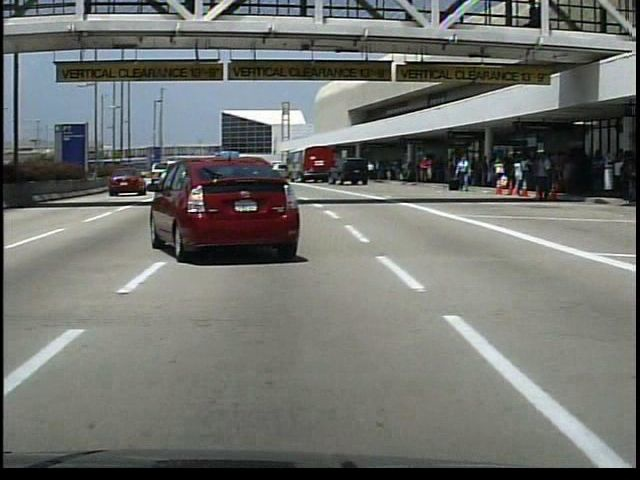person: (530, 153, 552, 205), (454, 155, 472, 194), (417, 156, 432, 184), (366, 163, 376, 181)
